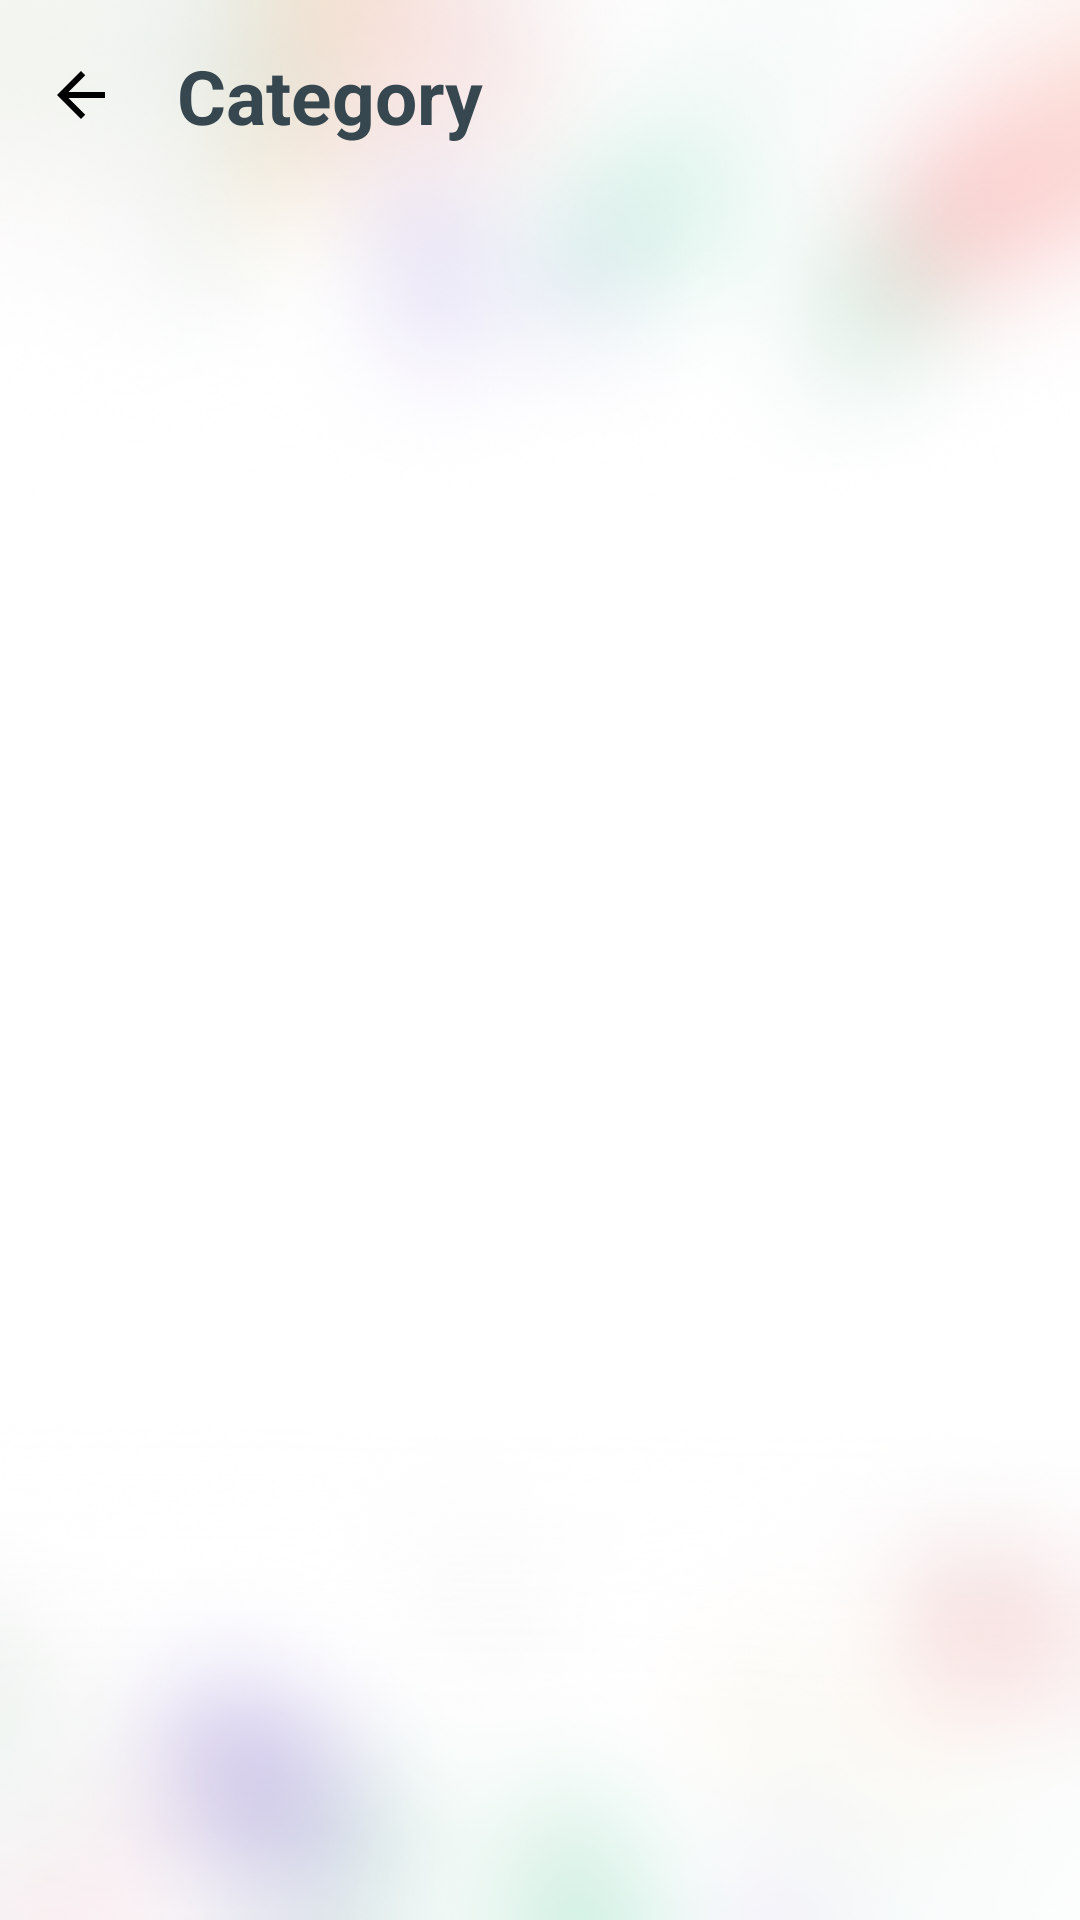

Icon bounding boxes for this 1080*1920 phone screenshot, format bbox=(x1, y1, x2, y2):
arrow back: bbox=(57, 71, 105, 119)
